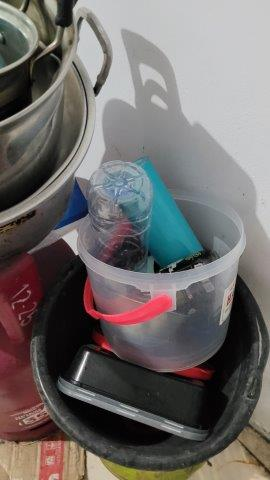botolplastik: (86, 161, 150, 291)
